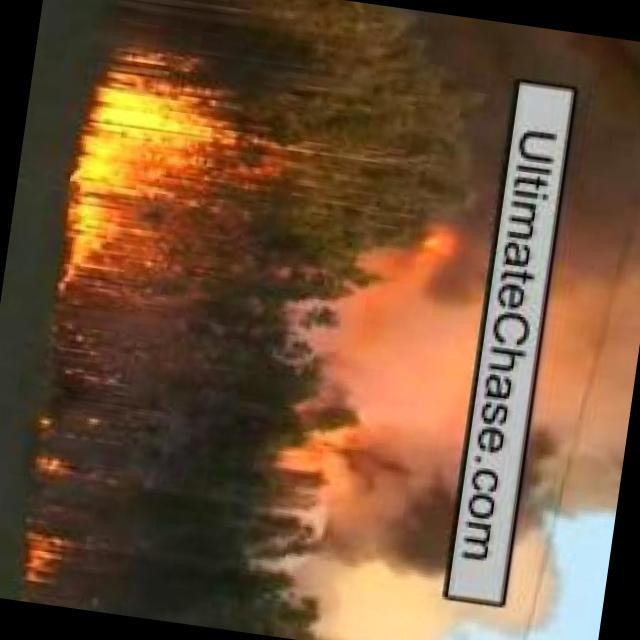Fire: (59, 58, 223, 306), (33, 403, 100, 482), (301, 414, 366, 489), (411, 220, 479, 279), (21, 537, 74, 596)
